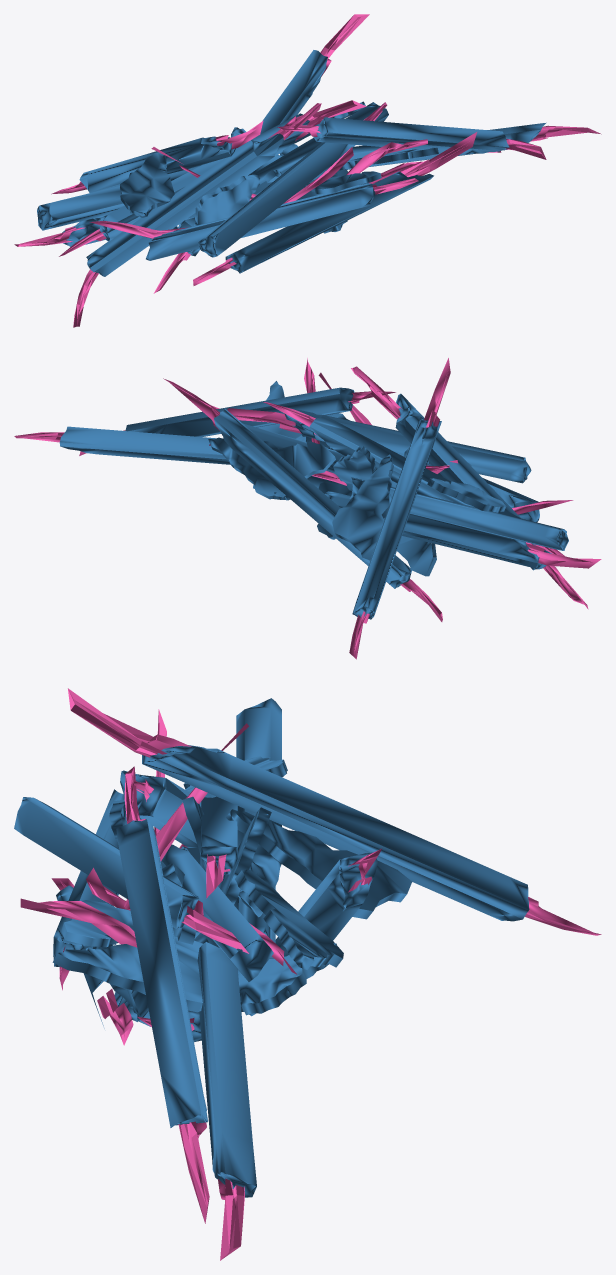
Rendered from concrete_rubble_c.glb.
The picture shows the model from 3 angles, top to bottom: view 1: azimuth 30°, elevation 25°; view 2: azimuth 150°, elevation 25°; view 3: azimuth 270°, elevation 25°; orthographic projection. The views are drawn at different scales.
Size of the model in its own units: 37.81 by 12.68 by 18.78.
